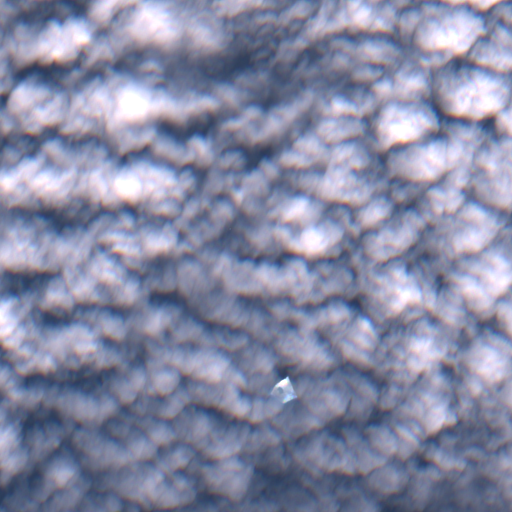Iceberg: (271, 376, 296, 403)
